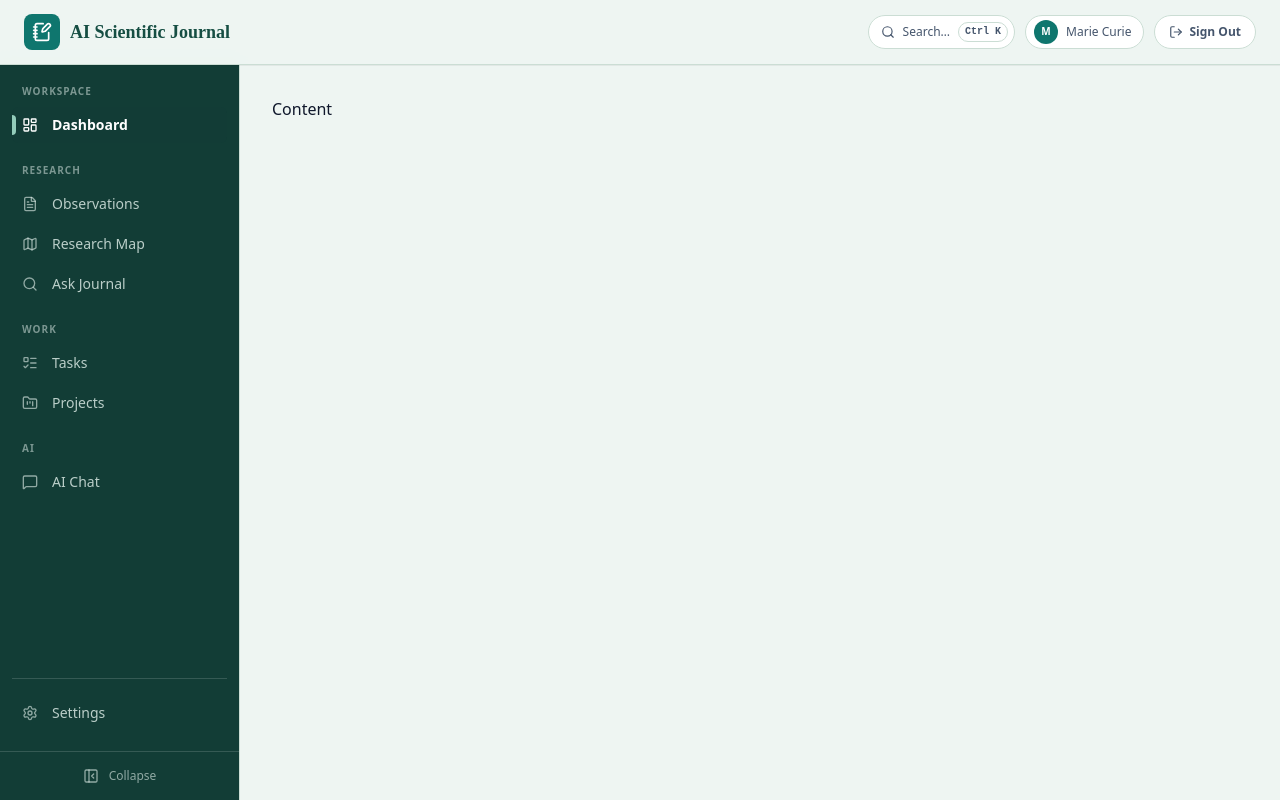
Test: Layout Component › collapses the sidebar and persists the preference
Click the button with aria-label "collapse sidebar" at (120, 776), box [8, 760, 231, 792]
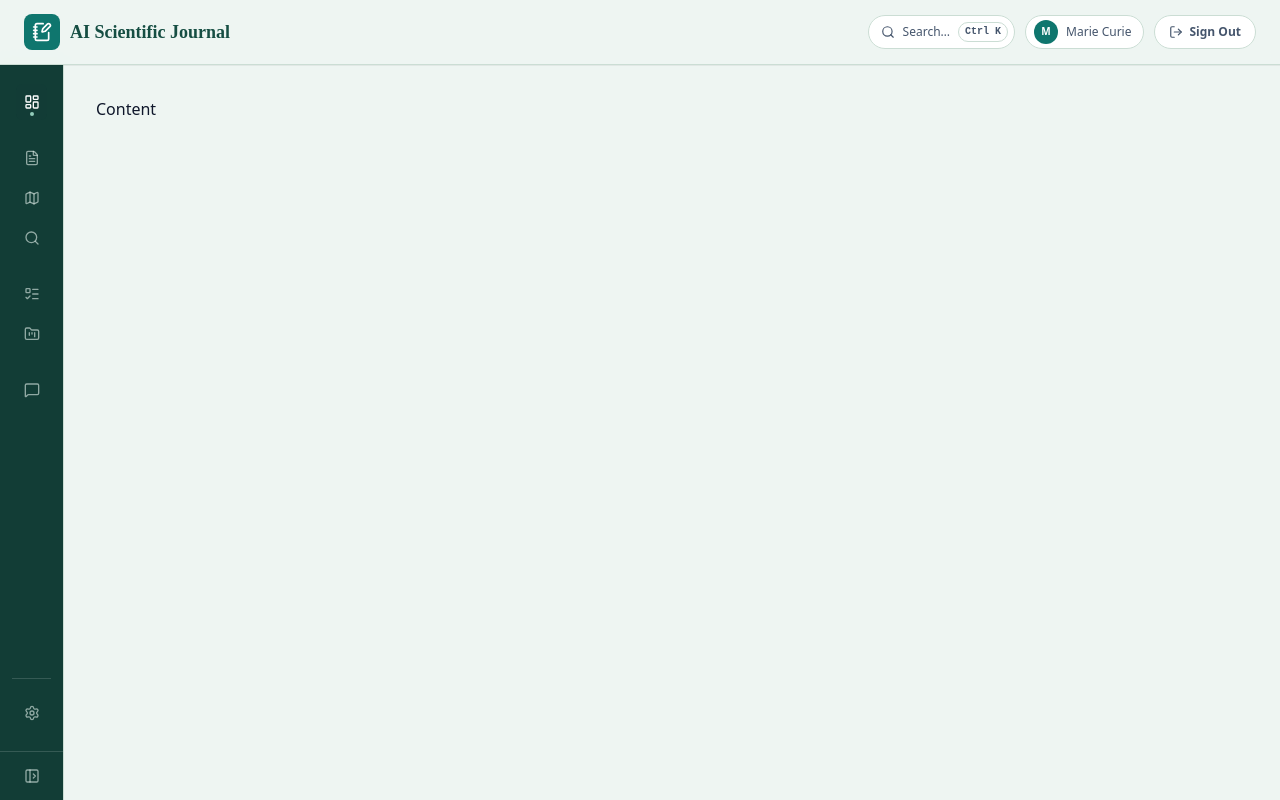
Check: the button named "expand sidebar" is shown, box [8, 760, 55, 792]
Check: the text "Ask Journal" is gone
